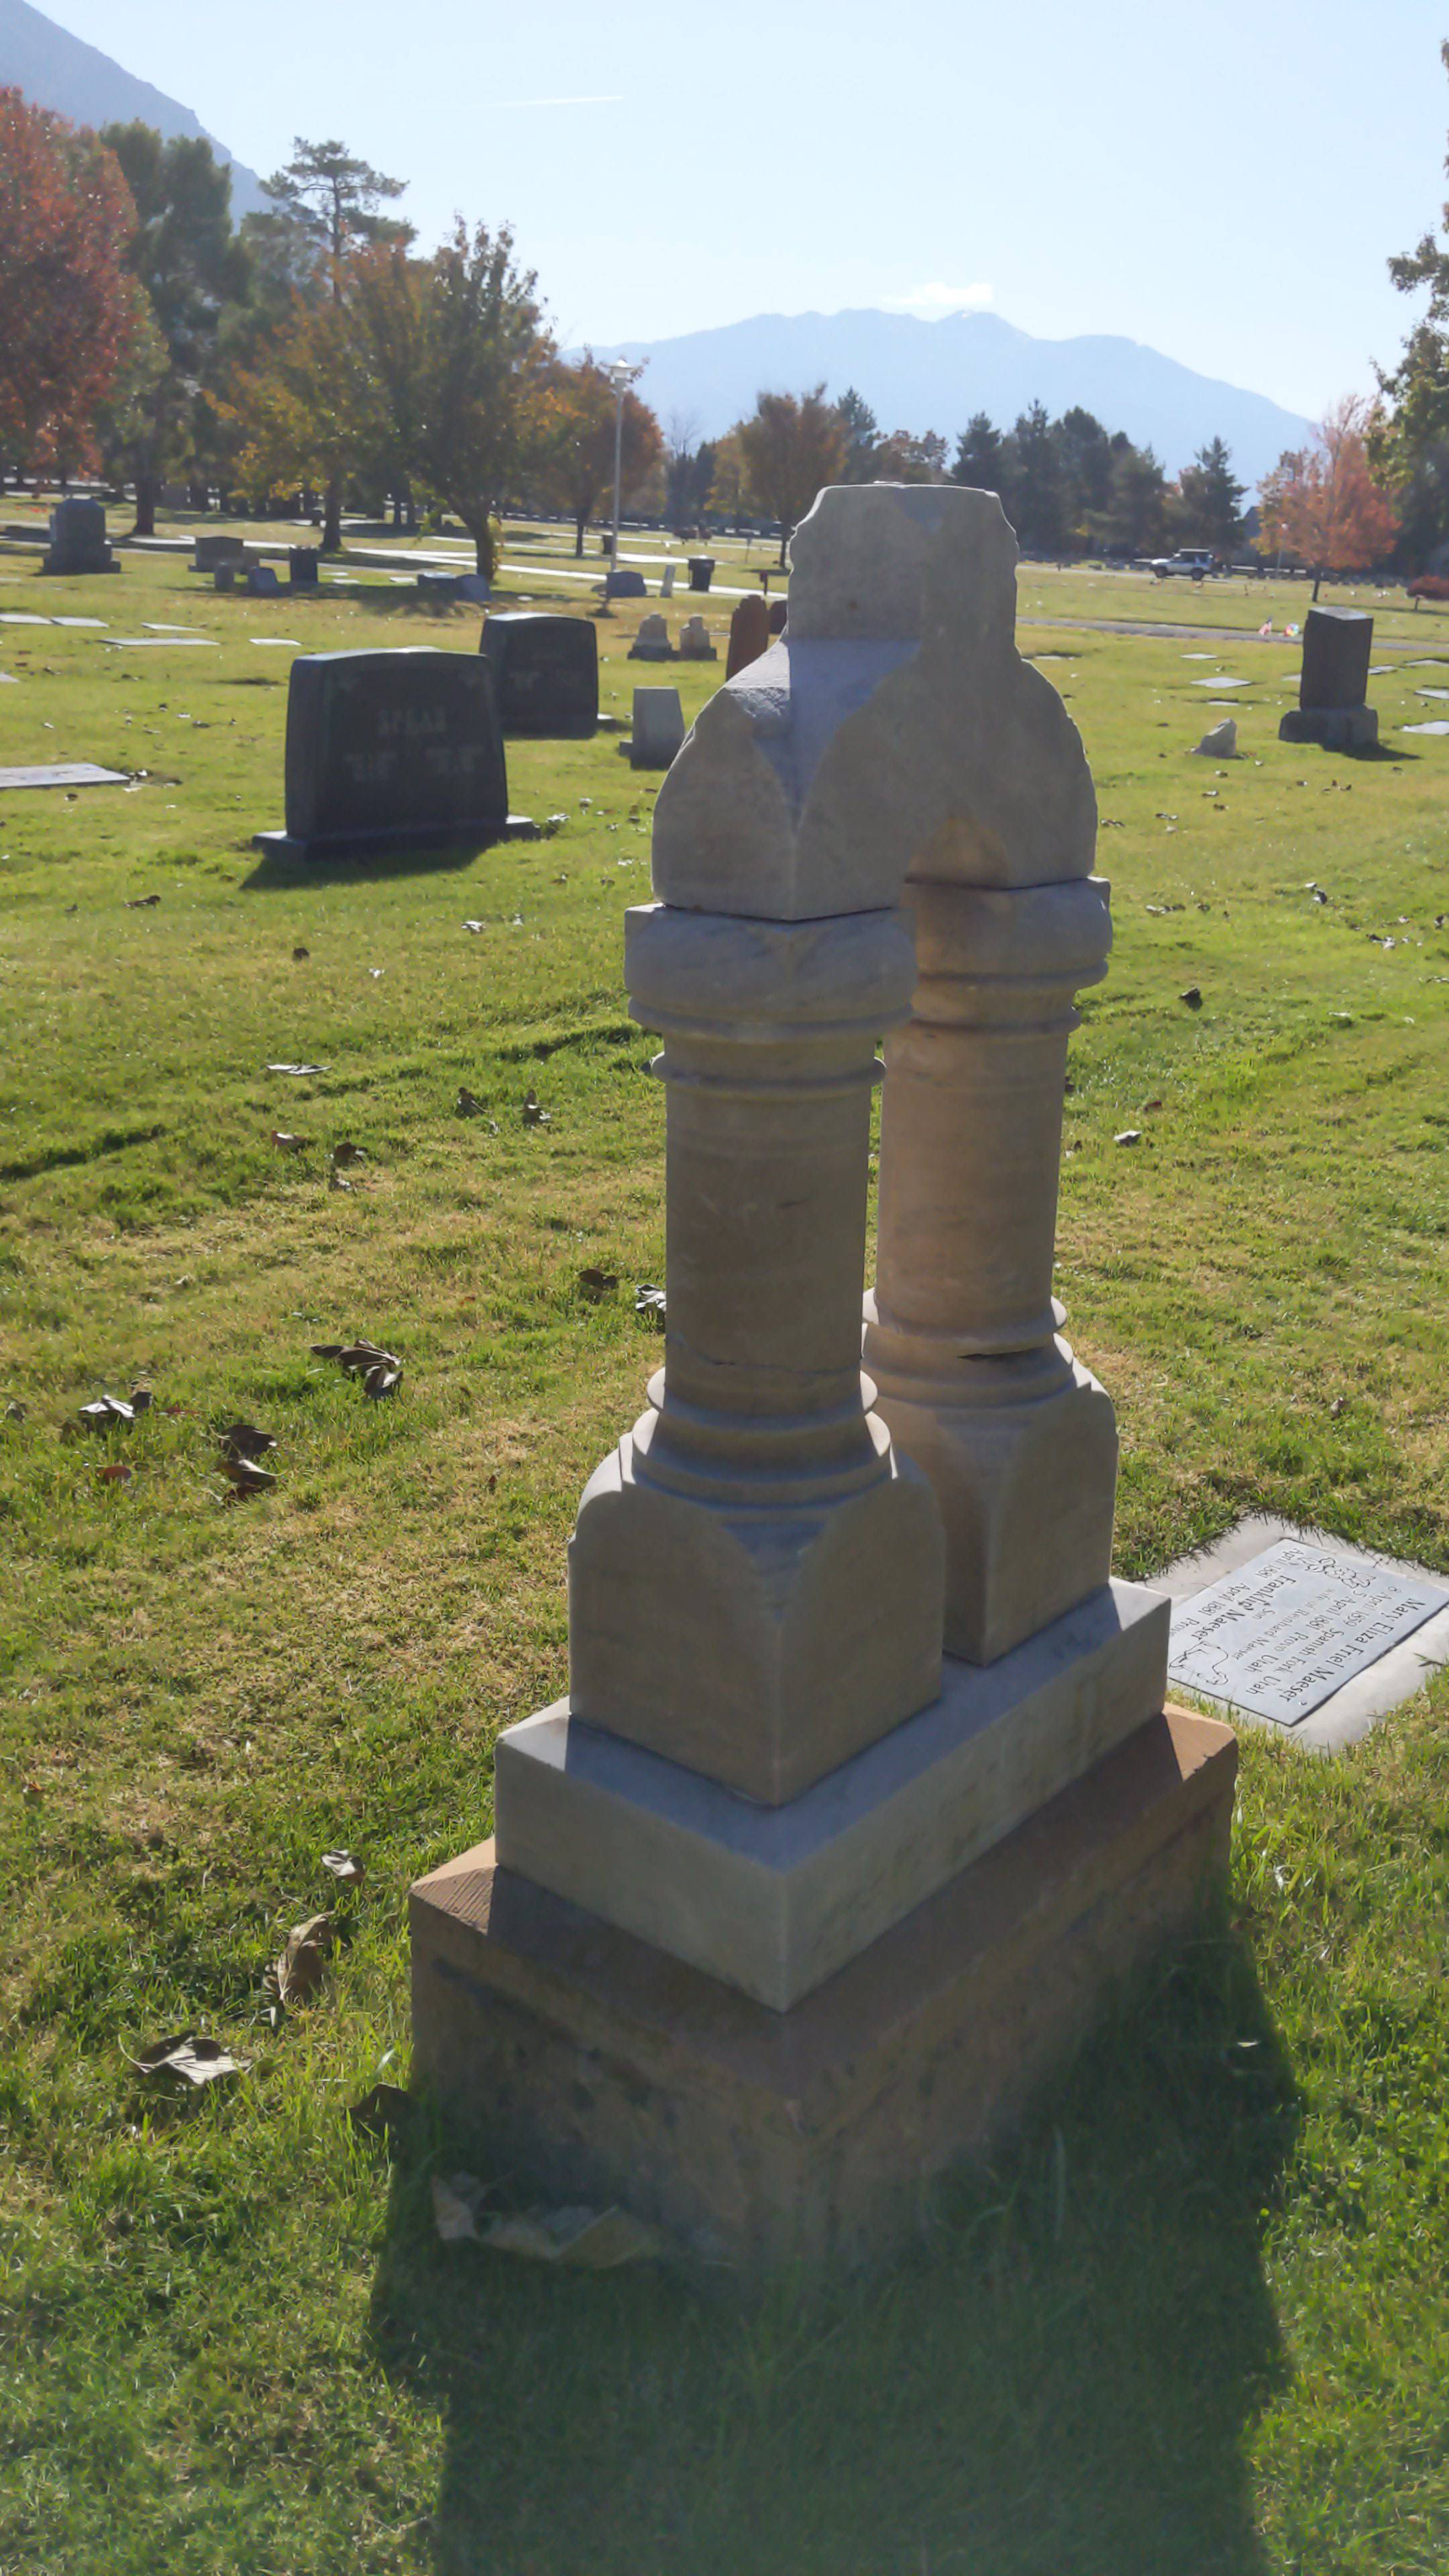obelisk: (494, 483, 1169, 2012)
